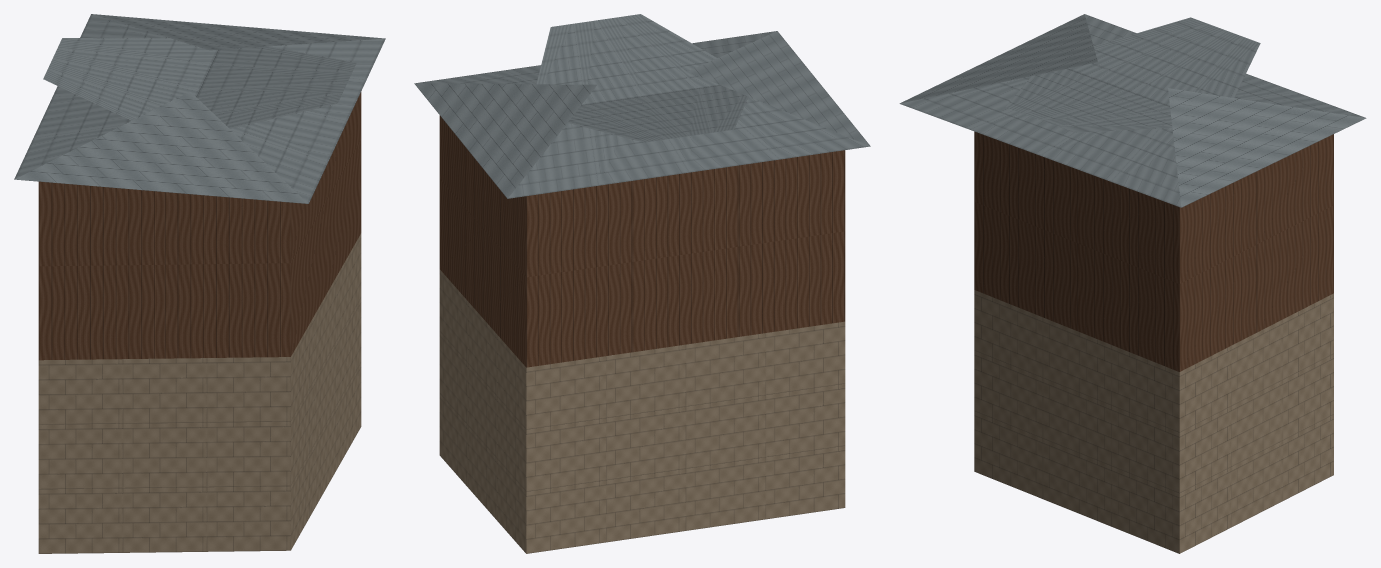
Rendered from bld_c18_9_567.gltf.
3 renders of one model, left to right at view 1: azimuth 30°, elevation 25°; view 2: azimuth 150°, elevation 25°; view 3: azimuth 270°, elevation 25°, orthographic. The views are drawn at different scales.
Visible parts, largest first — view 1: bld_c18_9_567; view 2: bld_c18_9_567; view 3: bld_c18_9_567.
Part boxes in pixels (left/top/right/bottom): bld_c18_9_567: left=14, top=14, right=385, bottom=553; bld_c18_9_567: left=414, top=14, right=870, bottom=553; bld_c18_9_567: left=899, top=14, right=1366, bottom=553.
Bounding box in the file's own units: 11.62 × 11 × 11.84.
Materials: 3 (3 with a texture image).
